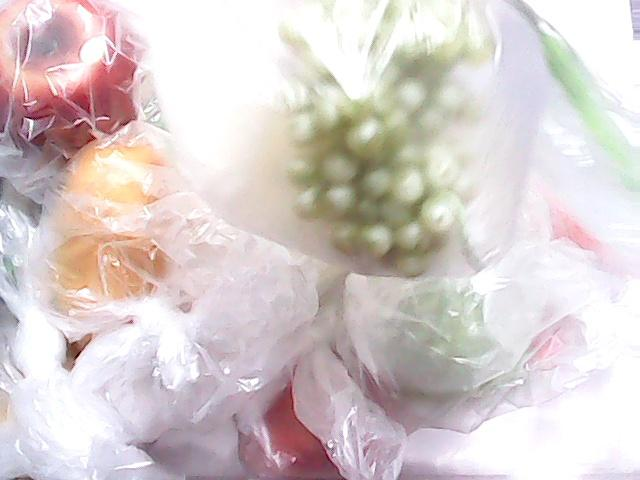apple: (0, 0, 148, 172)
cabbage: (339, 230, 515, 414)
carrot: (512, 158, 612, 370)
grape: (267, 18, 485, 282)
lemon: (40, 142, 174, 316)
peach: (232, 336, 404, 480)
